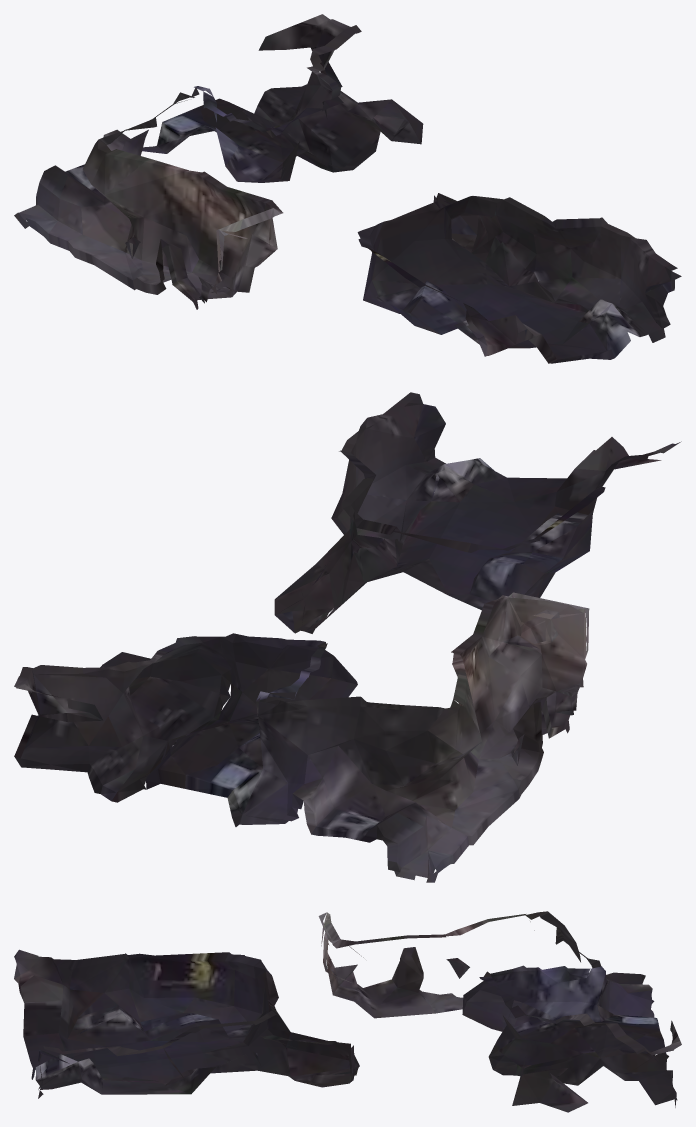
The picture shows the model from 3 angles, top to bottom: view 1: azimuth 30°, elevation 25°; view 2: azimuth 150°, elevation 25°; view 3: azimuth 270°, elevation 25°; orthographic projection. The views are drawn at different scales.
Parts seen in each view (by area): view 1: Mesh_0; view 2: Mesh_0; view 3: Mesh_0.
Part boxes in pixels (<box>): Mesh_0: <box>14,14,681,363</box>; Mesh_0: <box>14,392,681,882</box>; Mesh_0: <box>14,911,681,1112</box>.
Bounding box in the file's own units: 22.33 × 6.86 × 40.17.
1 material, 1 textured.
